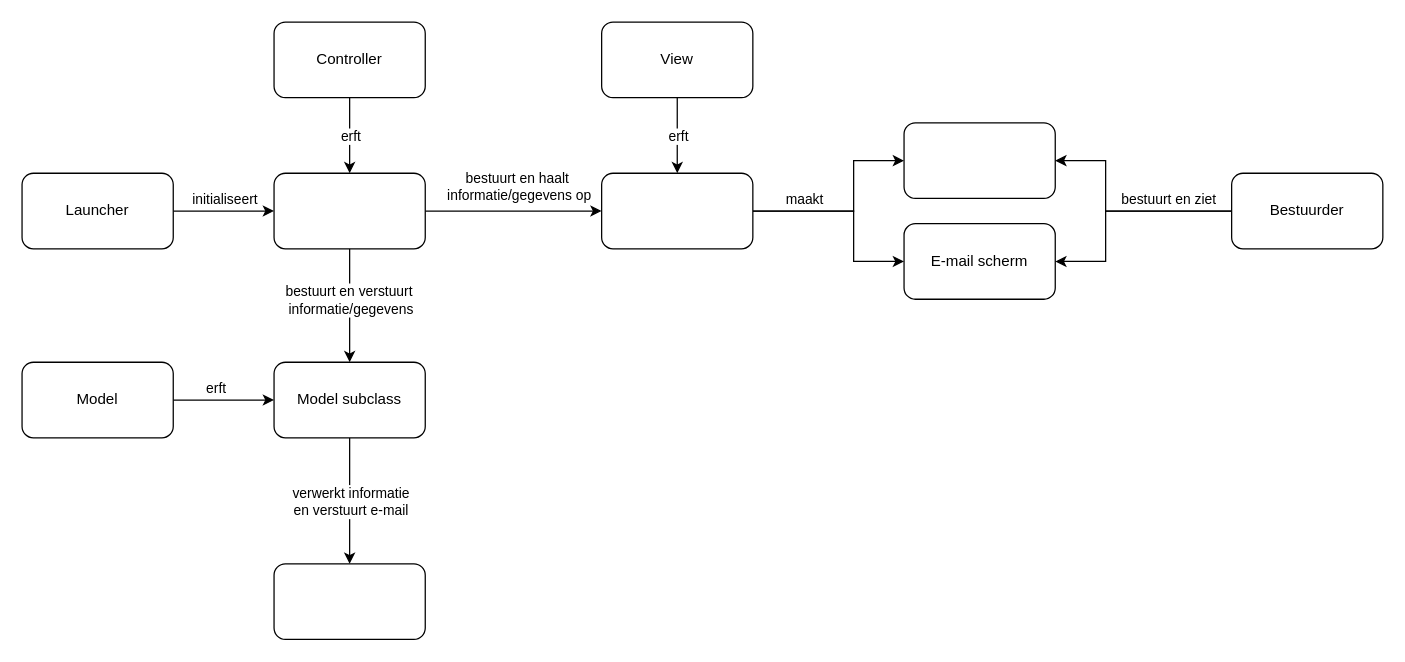
This 1405x662 diagram has some shape labels left out. Here are the shapes that lost their labels. From the top down, the box of each, then its label:
(903, 122, 1055, 198): Login scherm
(273, 172, 425, 249): Controller subclass
(600, 172, 753, 249): View subclass
(273, 563, 425, 639): SMTP server
